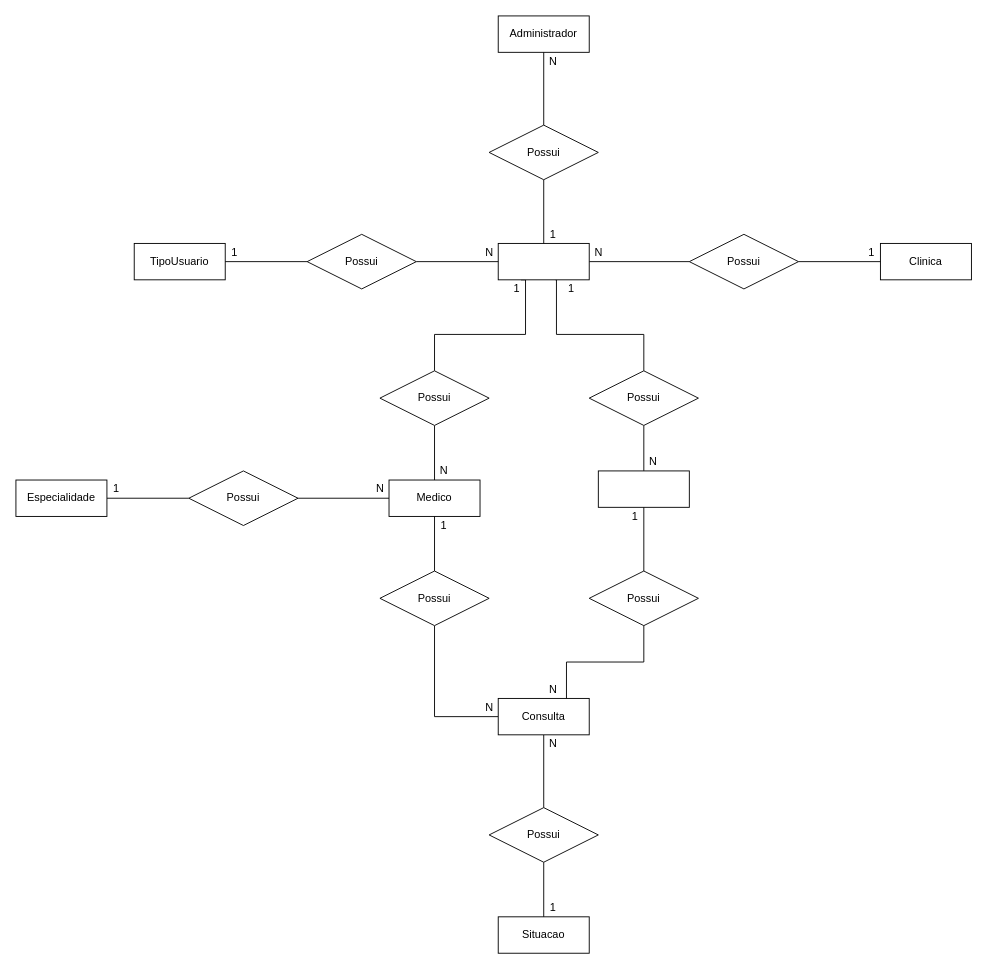
This 987x969 diagram has some shape labels left out. The box of each missing label's shape, as (x1, y1, x2, y2) in pixels:
Paciente: (597, 470, 689, 507)
Usuario: (497, 243, 589, 280)
